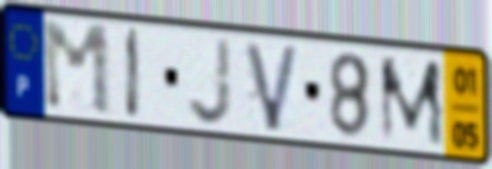8: (326, 49, 375, 141)
I: (123, 23, 143, 125)
J: (185, 34, 235, 129)
M: (37, 19, 116, 120), (376, 55, 448, 149)
V: (241, 38, 304, 135)
